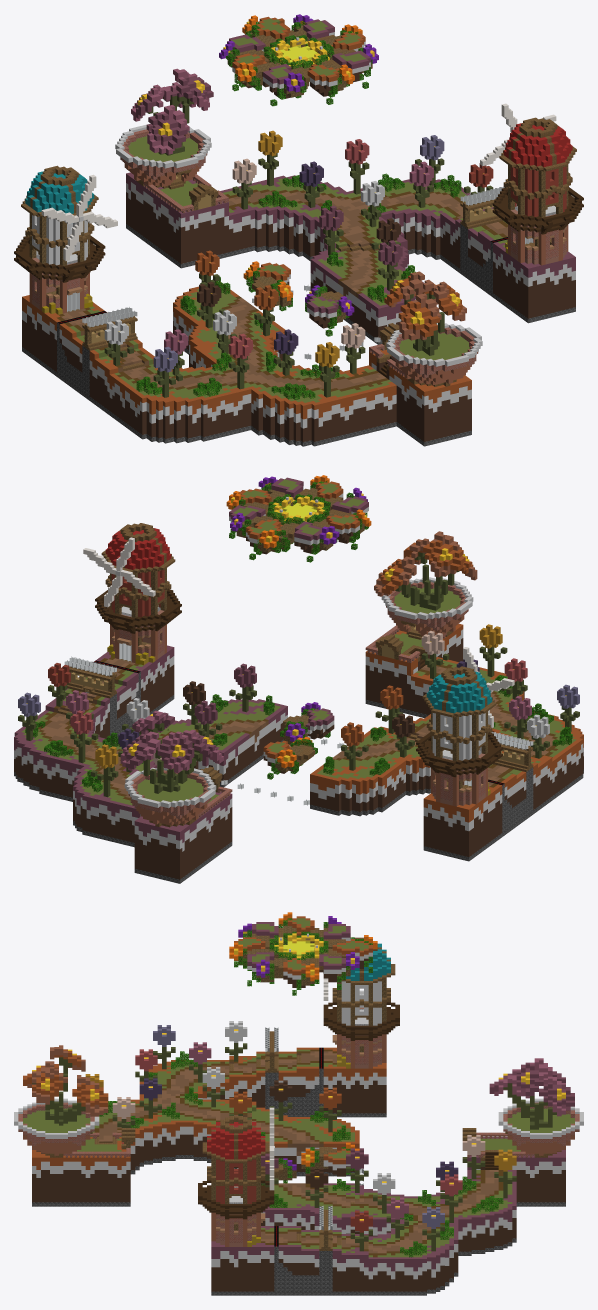
The model's file is minecraft.obj.
3 views of the same model, one above another, from view 1: azimuth 30°, elevation 25°; view 2: azimuth 150°, elevation 25°; view 3: azimuth 270°, elevation 25° (orthographic). The views are drawn at different scales.
Bounding box in the file's own units: 111 × 63 × 127.
